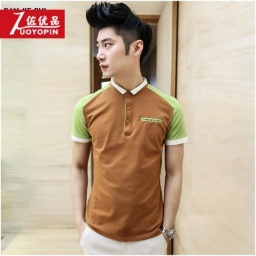face: (86, 3, 154, 79)
